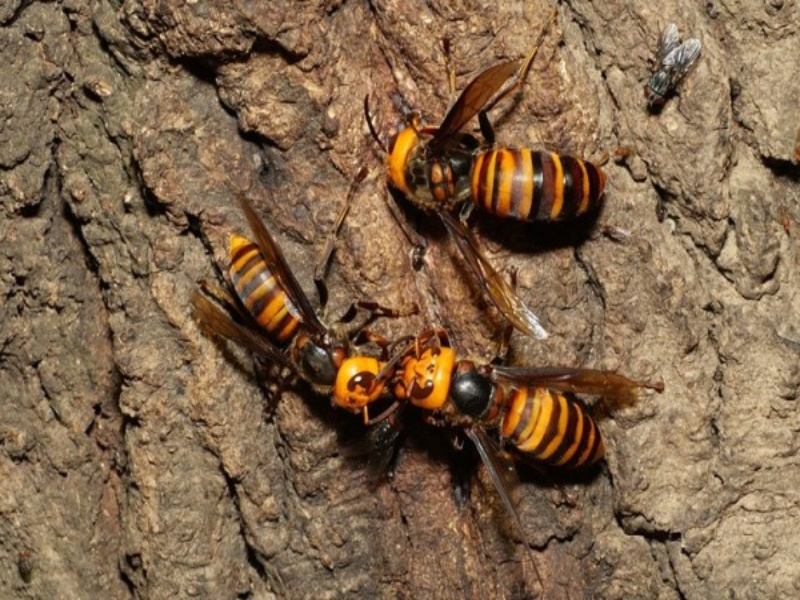asian_giant_hornet: (224, 230, 400, 428), (391, 321, 611, 476), (381, 122, 612, 230)
